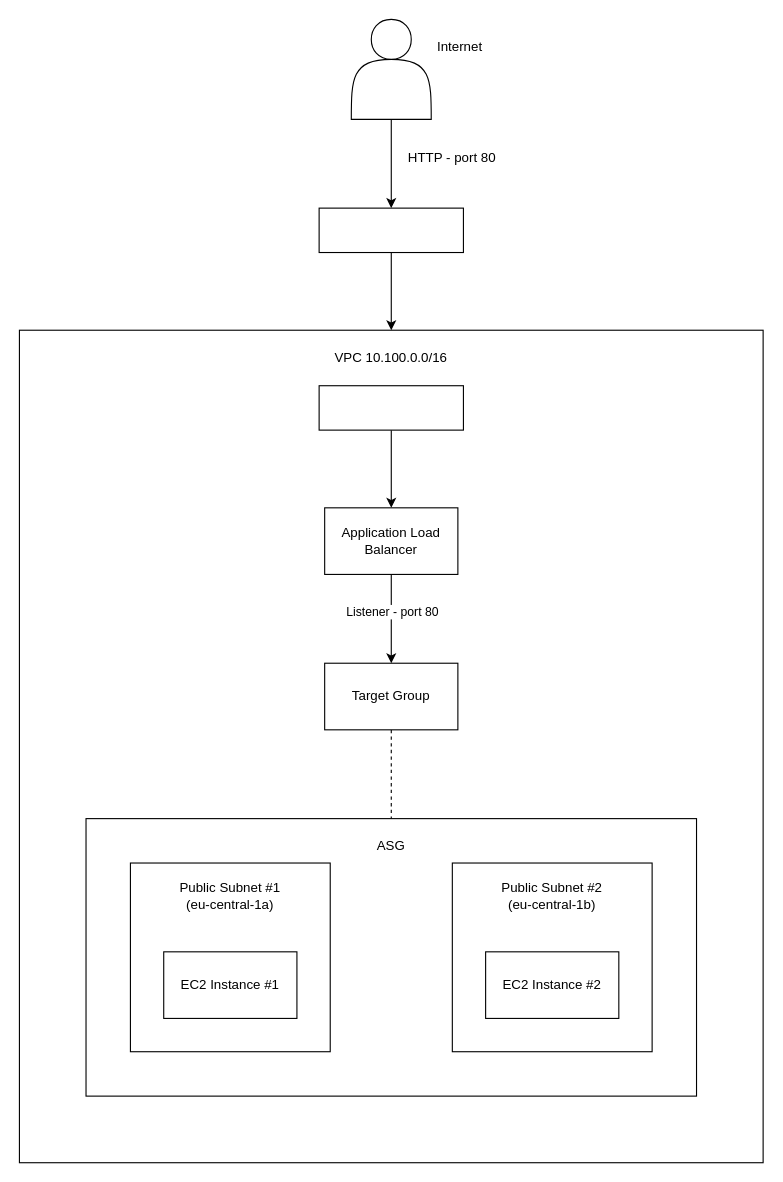
This 783x1182 diagram has some shape labels left out. Here are the shapes that lost their labels. From the top down, the centre of each, then its label:
(x=390, y=230): Internet Gateway
(x=390, y=407): Security Group ALB
